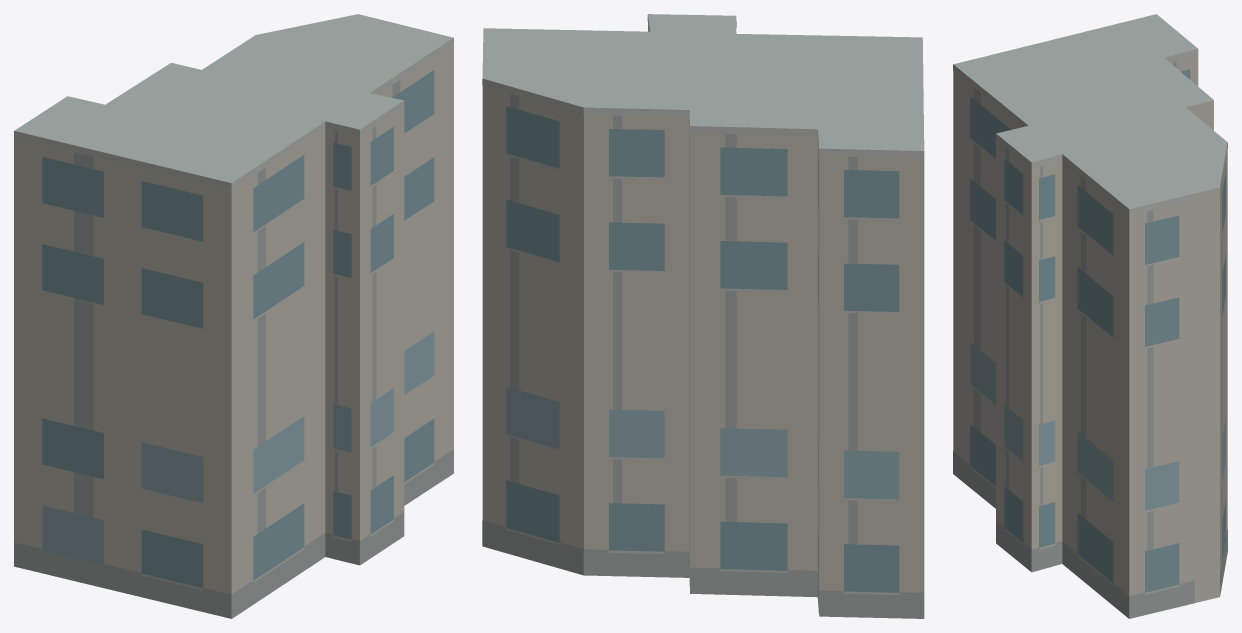
Rendered from survey-upis-32740608.glb.
The picture shows the model from 3 angles, left to right: view 1: azimuth 30°, elevation 25°; view 2: azimuth 150°, elevation 25°; view 3: azimuth 270°, elevation 25°; orthographic projection. The views are drawn at different scales.
Visible parts, largest first — view 1: survey-upis-32740608.tmp; view 2: survey-upis-32740608.tmp; view 3: survey-upis-32740608.tmp.
Part boxes in pixels (<box>): survey-upis-32740608.tmp: <box>14,14,453,618</box>; survey-upis-32740608.tmp: <box>482,14,924,618</box>; survey-upis-32740608.tmp: <box>953,14,1227,618</box>.
Bounding box in the file's own units: 15.94 × 15.6 × 9.48.
